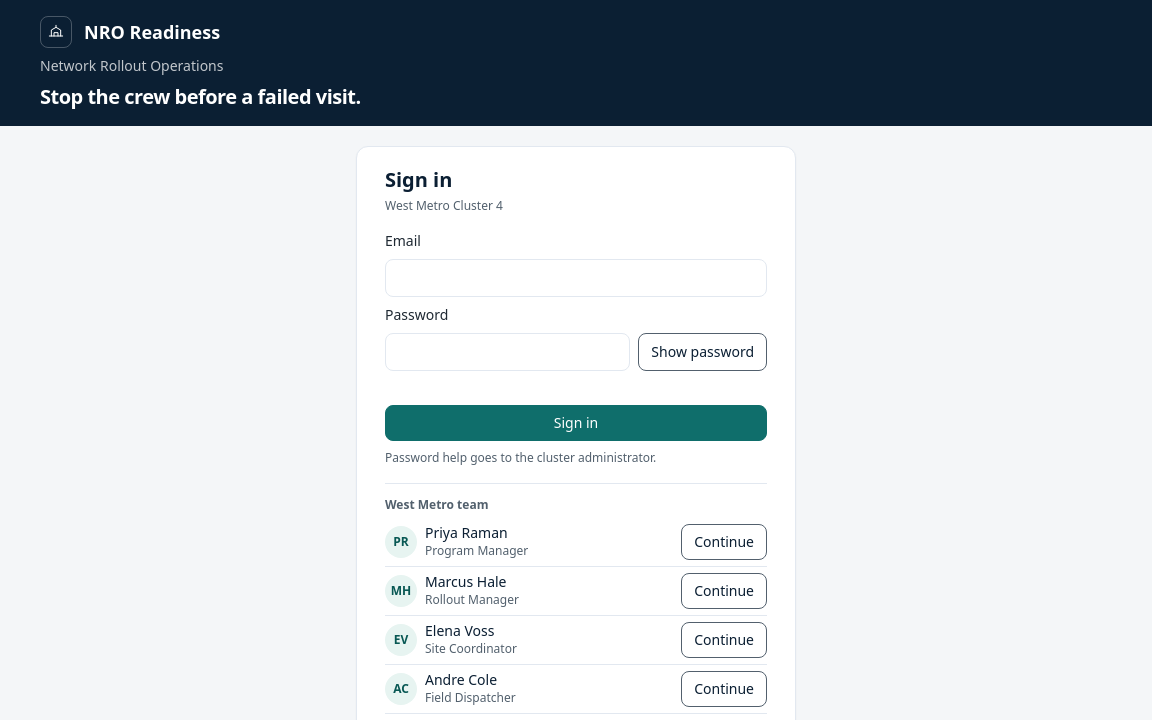
Test: shell site lookup › does not guess on ambiguous Enter and opens the keyboard-selected site
Click the button with aria-label "Continue as Marcus Hale". click: (724, 591)
box: [681, 573, 767, 609]
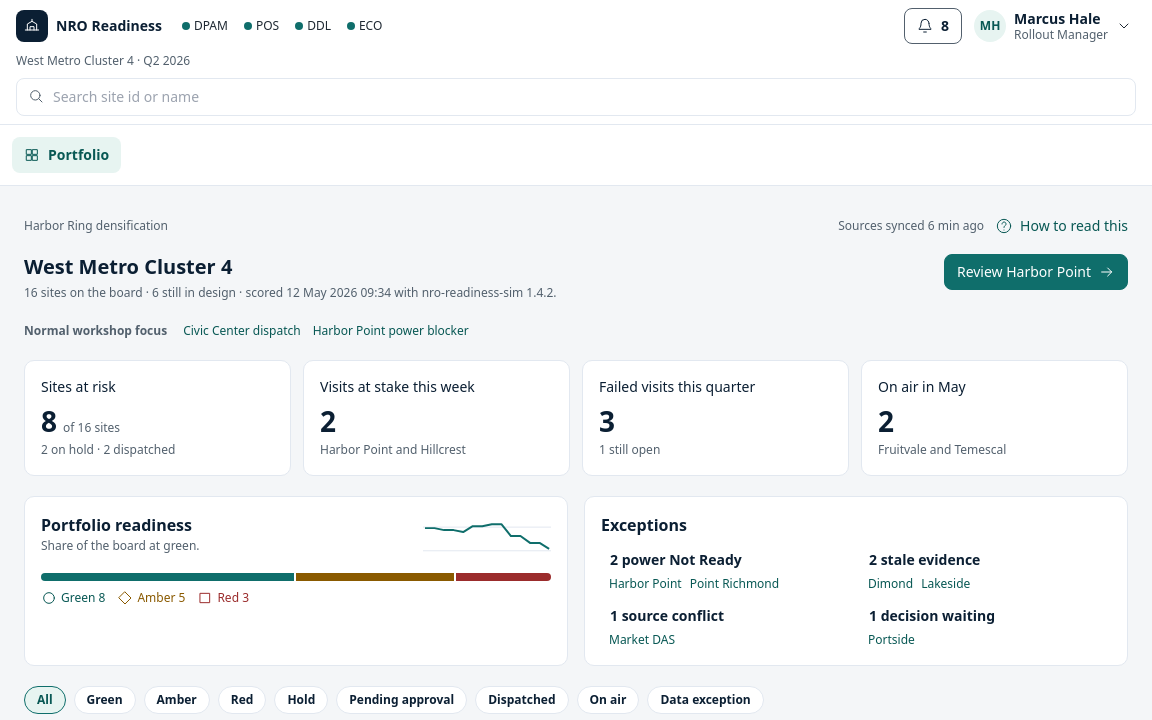
Check: the heading "West Metro Cluster 4" is shown, box [24, 253, 232, 280]
Click the link "Review Harbor Point". click: (1036, 272)
box: [944, 254, 1128, 290]
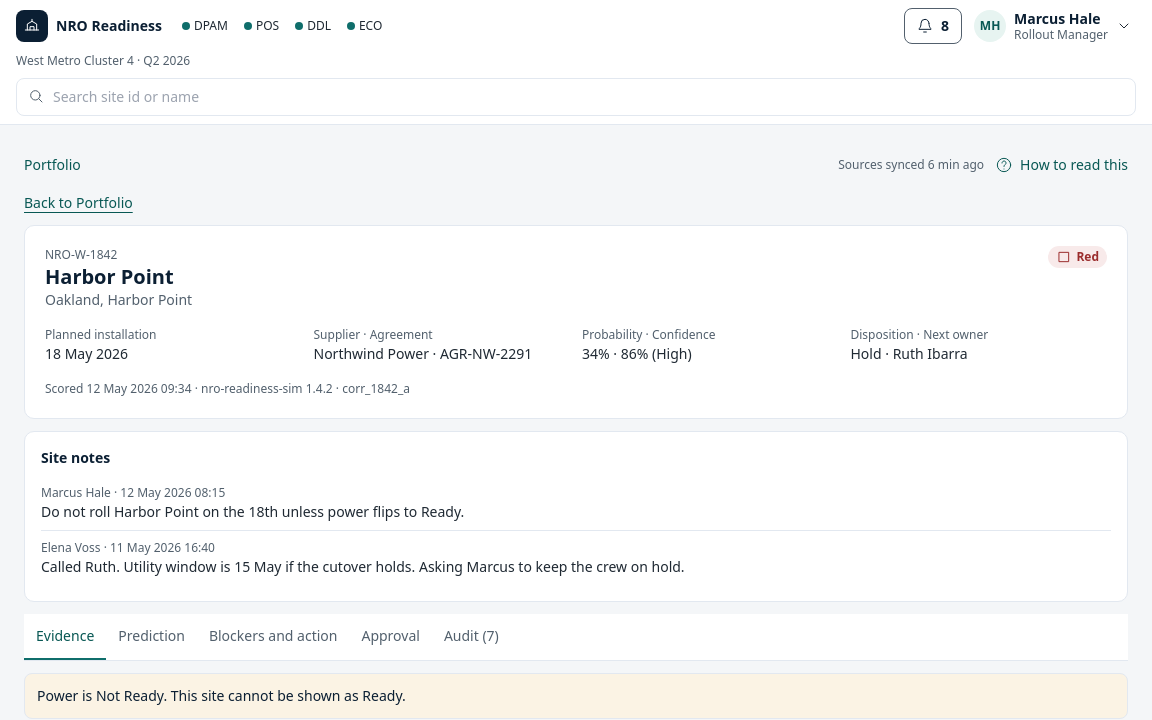
Check: the heading "Harbor Point" is shown, box [45, 264, 192, 290]
Type "point" into the dropdown labelled "Search site id or name". click: (576, 97)
box: [16, 78, 1136, 116]
Then press Enter
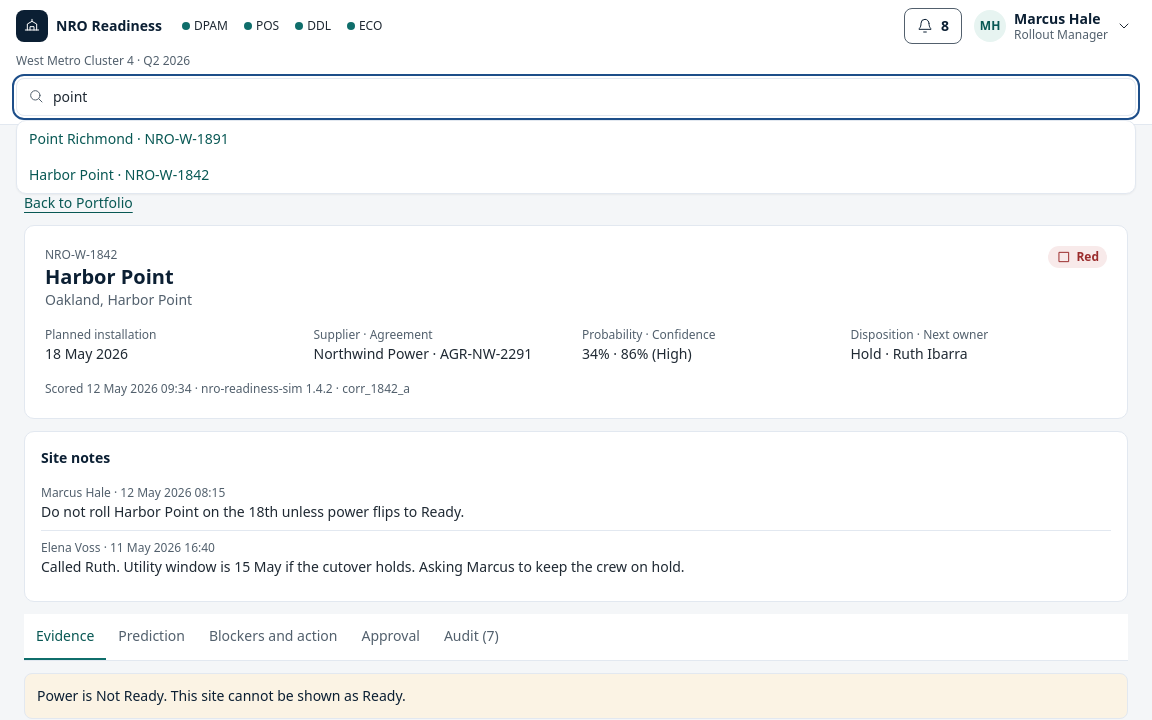
Check: the heading "Harbor Point" is shown, box [45, 264, 192, 290]
Check: the number of options is 2, box [29, 129, 229, 148]; [29, 165, 209, 184]
Press Arrowdown
Check: the option "Point Richmond · NRO-W-1891" is shown, box [17, 121, 1135, 157]
Press Enter
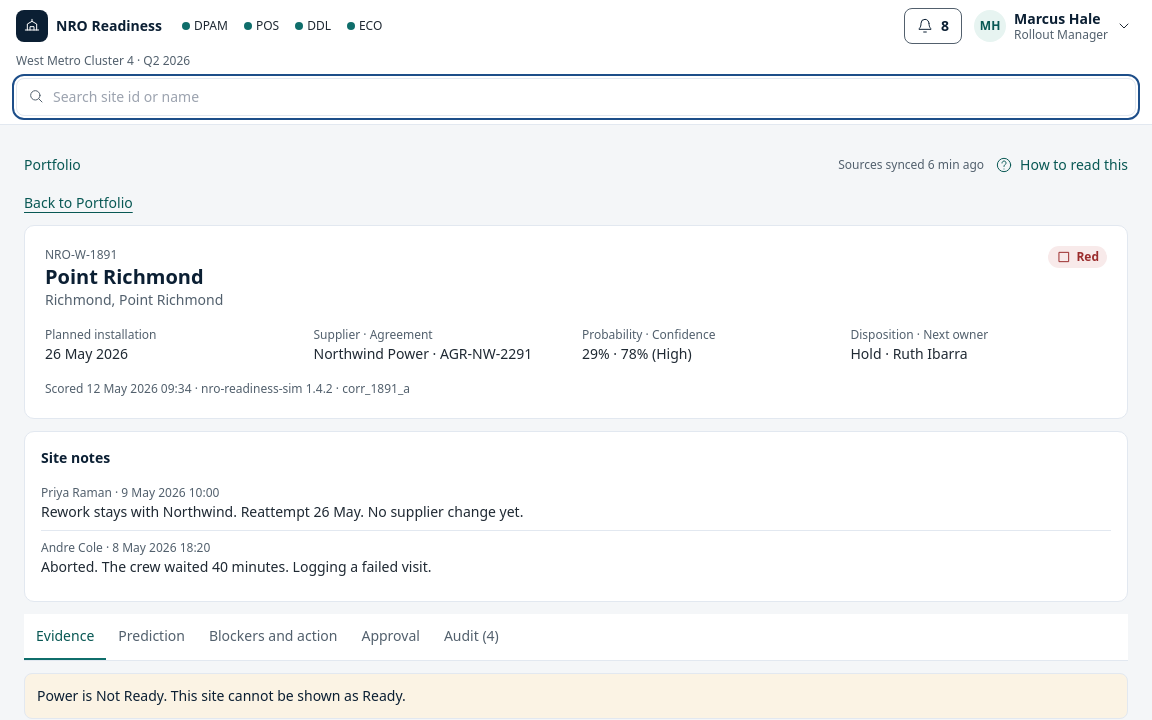
Check: the heading "Point Richmond" is shown, box [45, 264, 223, 290]
